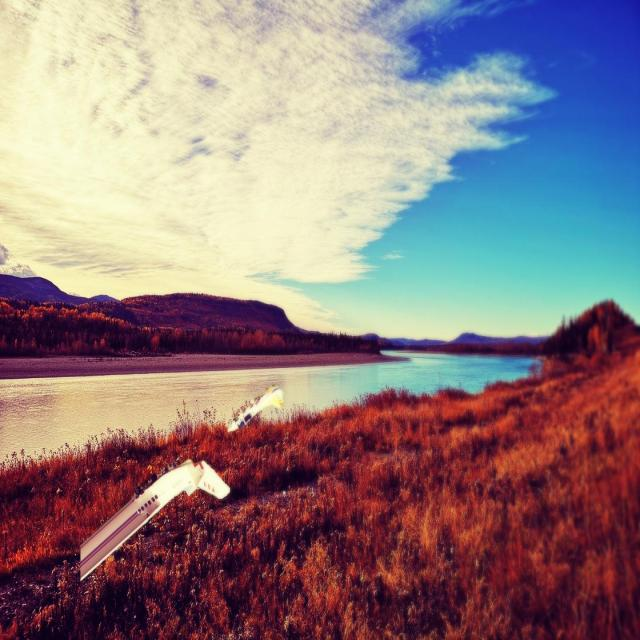airplane: (78, 457, 230, 582), (227, 385, 284, 433)
